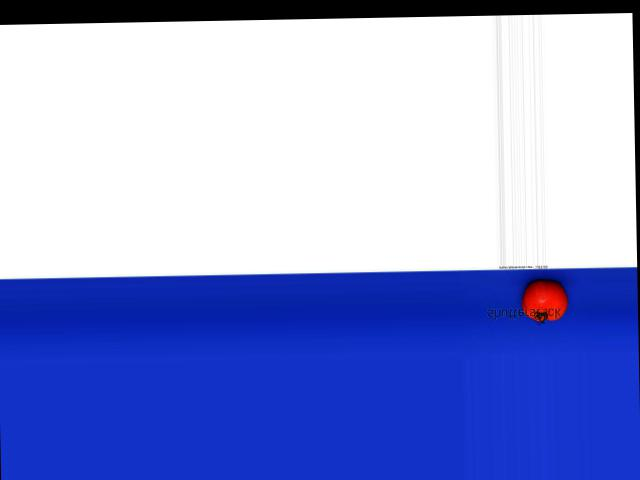tomato: (522, 279, 569, 321)
